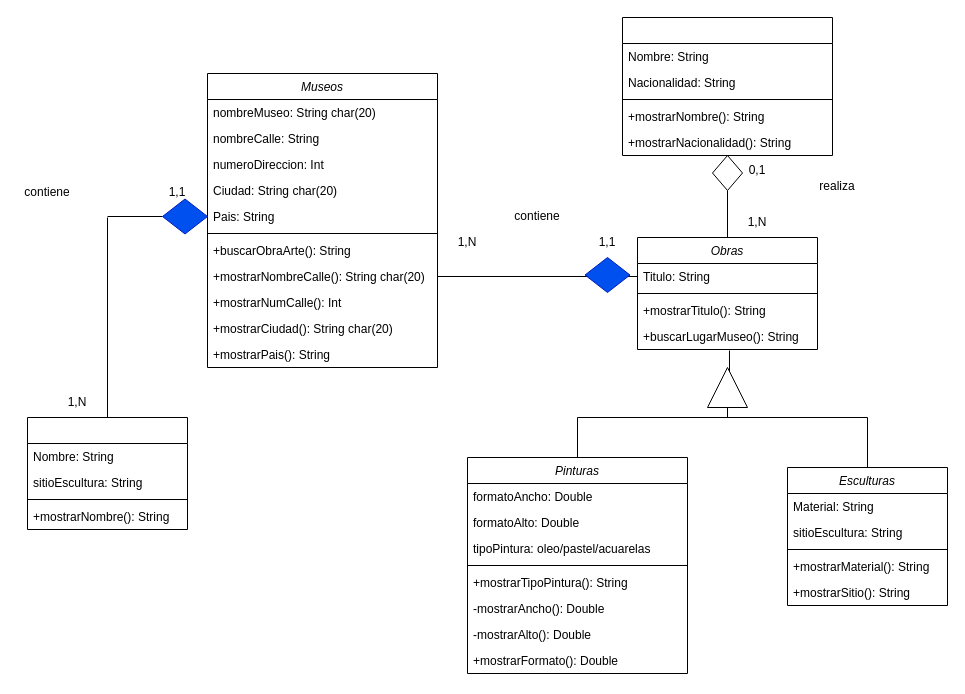
The diagram is 965 pixels wide and 694 high, and some of its shapes have lost their labels. The box of each missing label's shape, as (x1, y1, x2, y2) in pixels:
Autores: (622, 16, 832, 156)
SalaMuseo: (26, 416, 188, 530)
